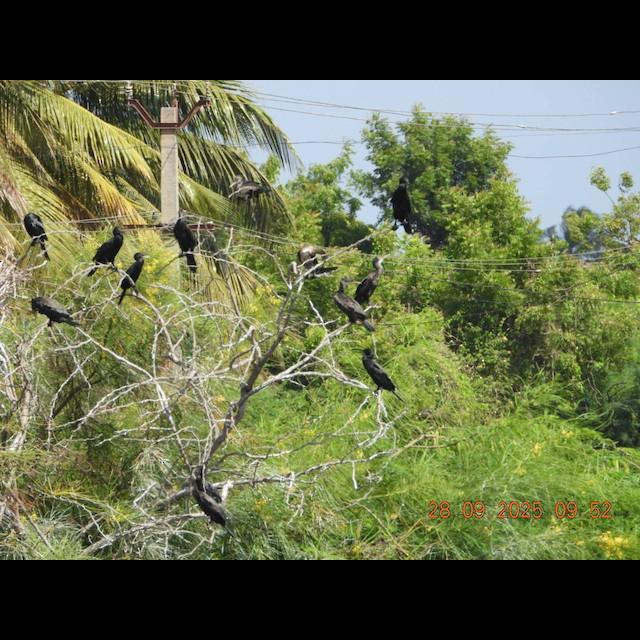cormorant: (351, 346, 401, 398), (120, 249, 158, 309), (170, 206, 204, 272), (28, 295, 76, 339), (387, 172, 419, 236), (357, 252, 399, 298), (222, 170, 272, 202)
